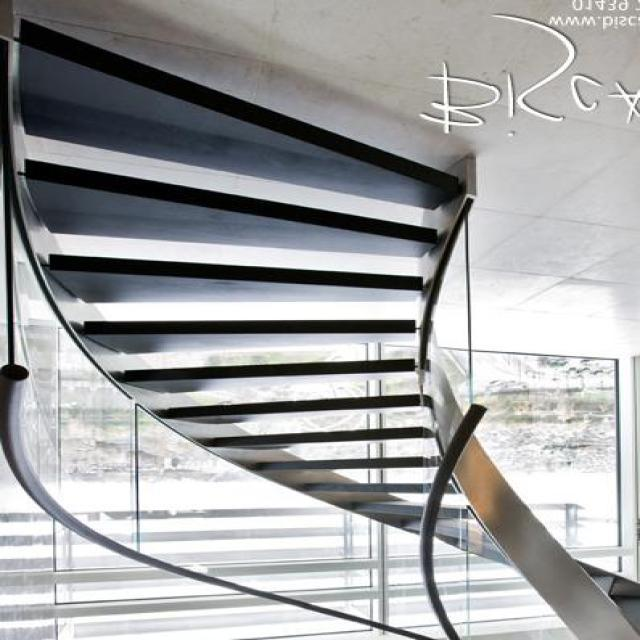Stairs: (19, 27, 525, 593)
